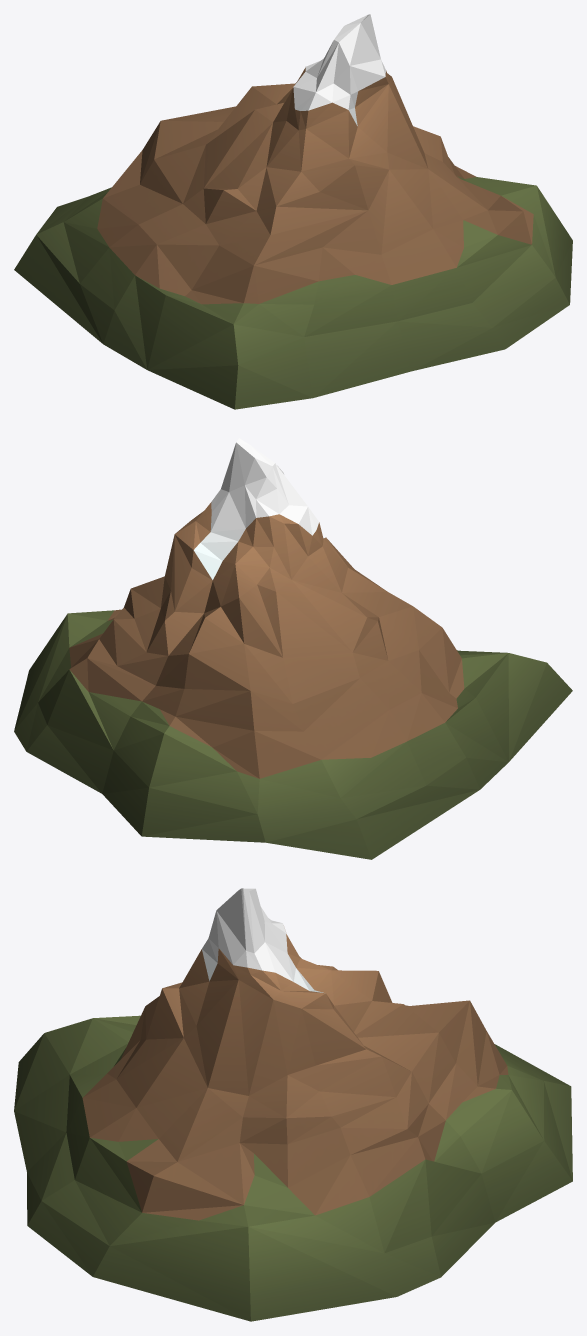
Rendered from Mountain-01.FBX.
3 renders of one model, top to bottom at view 1: azimuth 30°, elevation 25°; view 2: azimuth 150°, elevation 25°; view 3: azimuth 270°, elevation 25°, orthographic. The views are drawn at different scales.
Parts seen in each view (by area): view 1: Mountain-01; view 2: Mountain-01; view 3: Mountain-01.
Boxes of the visible parts, x1,y1,x2,y2 form: Mountain-01: (14,14,572,409); Mountain-01: (14,438,572,859); Mountain-01: (14,888,572,1321).
Size of the model in its own units: 14701 by 8595 by 13558.
Materials: 1 (1 with a texture image).
